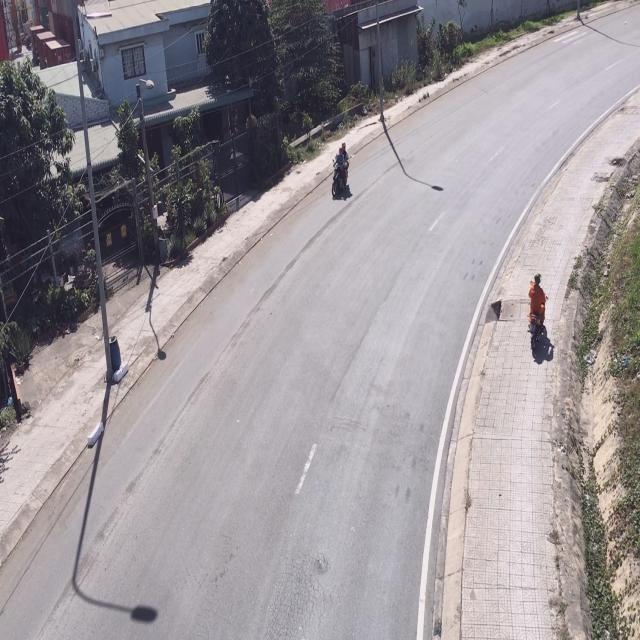motorbike: (526, 271, 546, 351), (332, 143, 352, 203)
